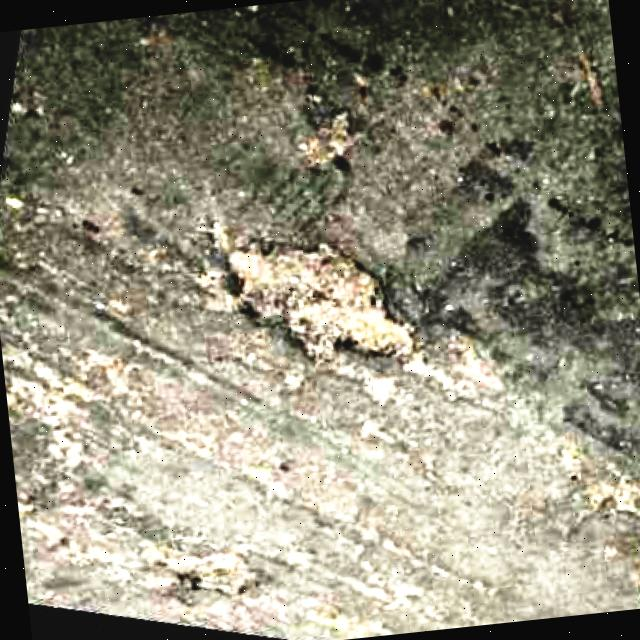pothole: (208, 213, 419, 384), (142, 528, 268, 612)
